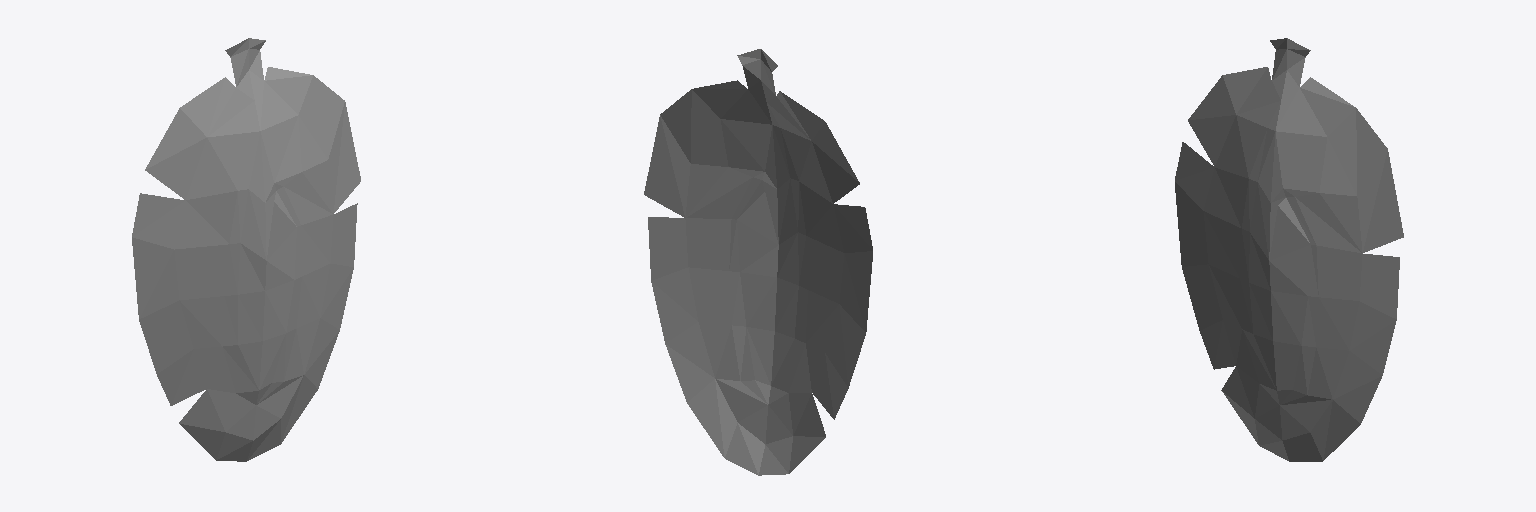
File: Banana_Leaf_Door.obj
3 renders of one model, left to right at view 1: azimuth 30°, elevation 25°; view 2: azimuth 150°, elevation 25°; view 3: azimuth 330°, elevation 25°, orthographic.
Parts seen in each view (by area): view 1: Mesh_pCube6; view 2: Mesh_pCube6; view 3: Mesh_pCube6.
Boxes of the visible parts, <box> form: Mesh_pCube6: <box>132,38,360,461</box>; Mesh_pCube6: <box>644,49,872,475</box>; Mesh_pCube6: <box>1175,38,1403,461</box>.
Bounding box in the file's own units: 87.09 × 154 × 14.08.